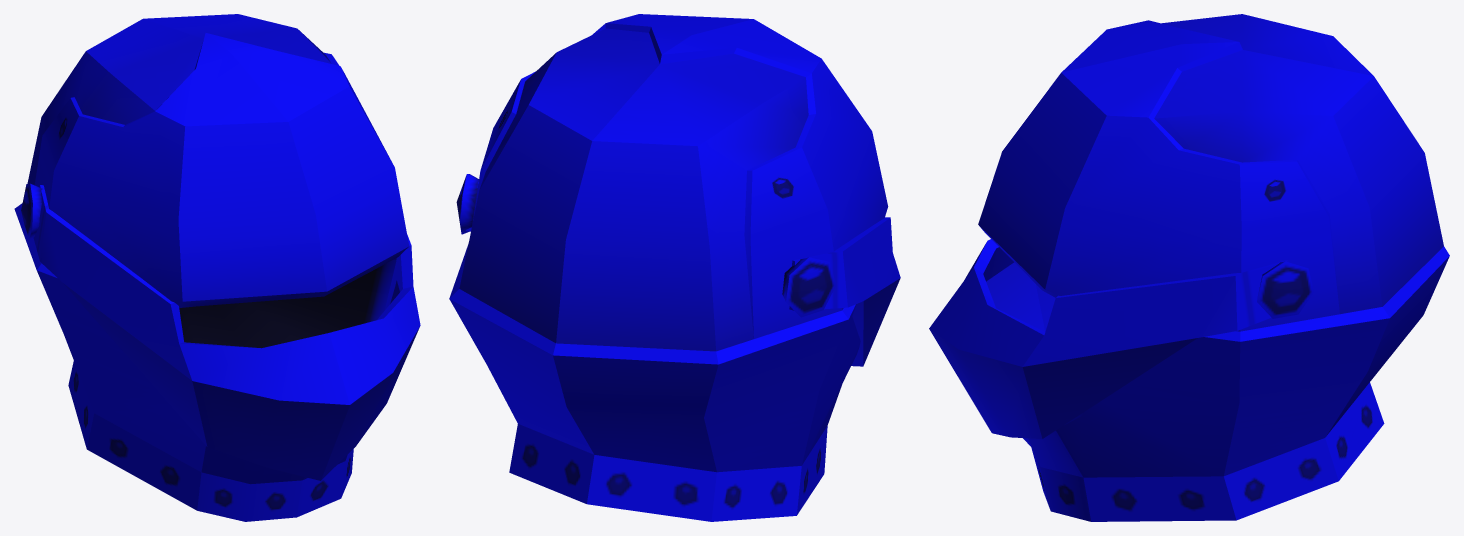
File: ArmetHelmet_M.fbx
The picture shows the model from 3 angles, left to right: view 1: azimuth 30°, elevation 25°; view 2: azimuth 150°, elevation 25°; view 3: azimuth 270°, elevation 25°; orthographic projection. The views are drawn at different scales.
Parts seen in each view (by area): view 1: ArmetHelmet_M, ArmetHelmet_M_Visor; view 2: ArmetHelmet_M, ArmetHelmet_M_Visor; view 3: ArmetHelmet_M, ArmetHelmet_M_Visor.
Boxes of the visible parts, x1=… form: ArmetHelmet_M: x1=14, y1=14, x2=409, y2=521; ArmetHelmet_M_Visor: x1=21, y1=183, x2=420, y2=480; ArmetHelmet_M: x1=449, y1=14, x2=888, y2=521; ArmetHelmet_M_Visor: x1=456, y1=174, x2=900, y2=366; ArmetHelmet_M: x1=978, y1=14, x2=1449, y2=521; ArmetHelmet_M_Visor: x1=929, y1=239, x2=1313, y2=438.
Bounding box in the file's own units: 28.78 × 34.09 × 35.82.
